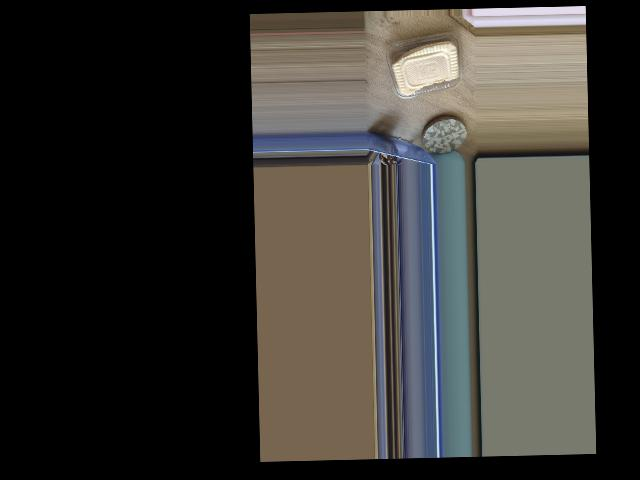cheese: (391, 14, 473, 103)
